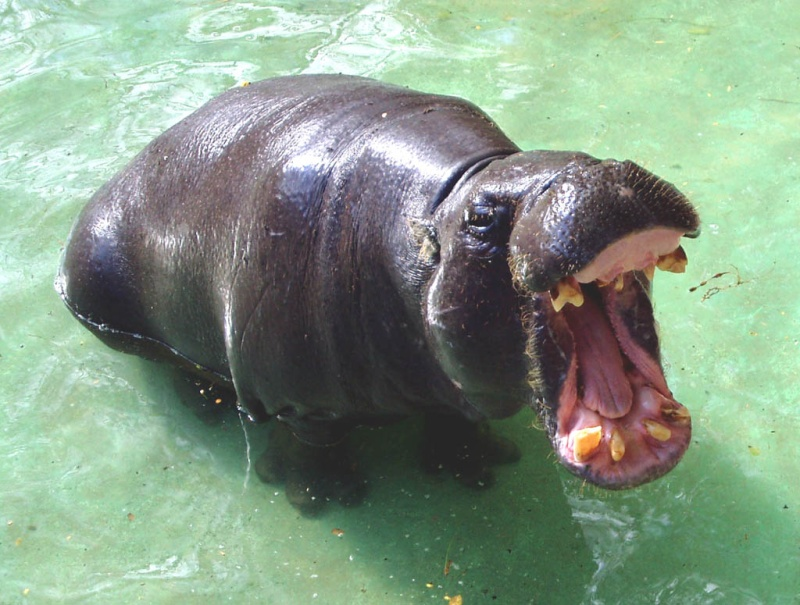hipopotamo: (57, 71, 697, 490)
